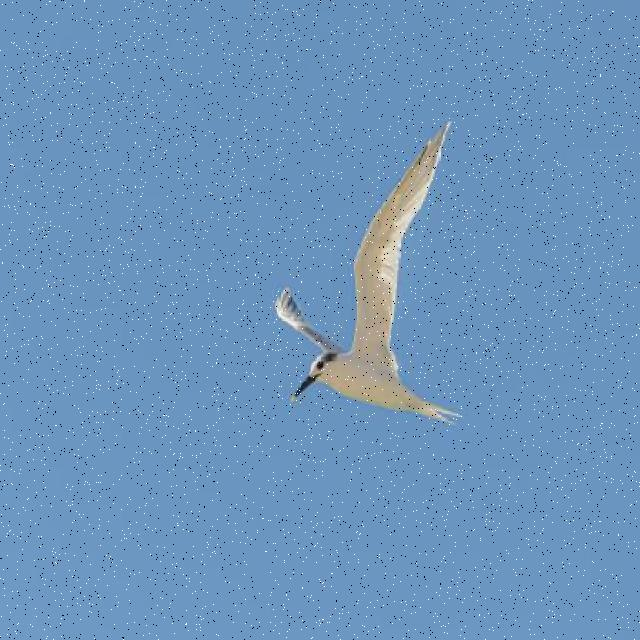bird: (274, 122, 452, 428)
